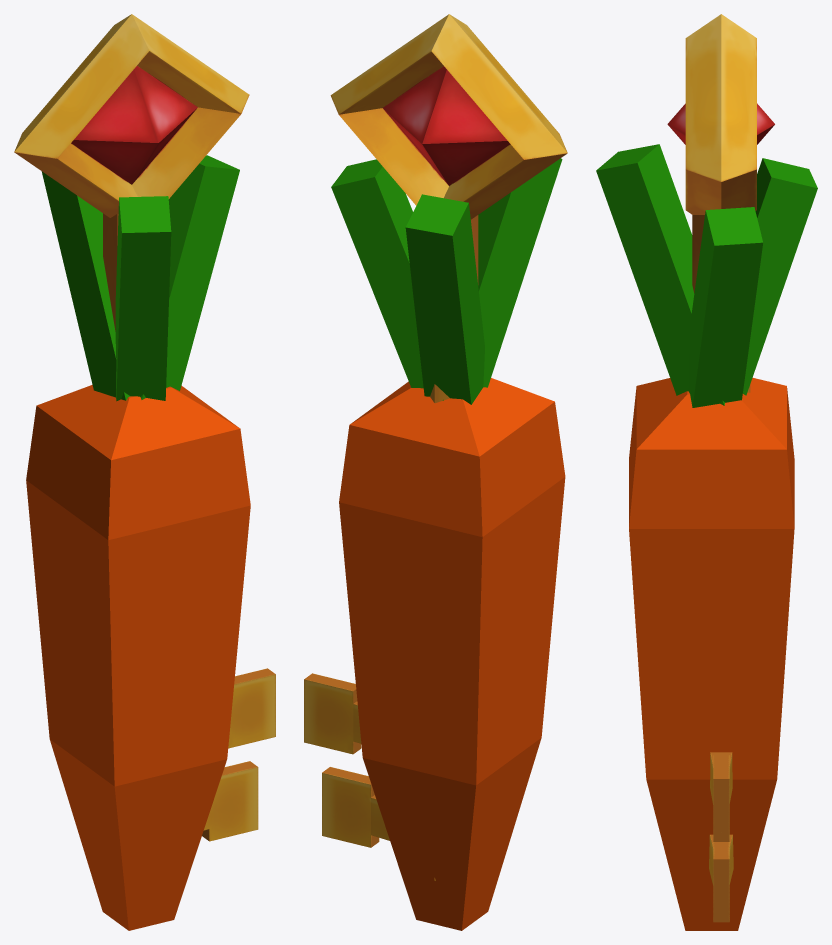
Rendered from carotte_key.glb.
The picture shows the model from 3 angles, left to right: view 1: azimuth 30°, elevation 25°; view 2: azimuth 150°, elevation 25°; view 3: azimuth 270°, elevation 25°; orthographic projection.
Parts seen in each view (by area): view 1: Carrote, Golden key, Tige_Carrote.001, Tige_Carrote.002, Tige_Carrote; view 2: Carrote, Golden key, Tige_Carrote, Tige_Carrote.002, Tige_Carrote.001; view 3: Carrote, Golden key, Tige_Carrote.001, Tige_Carrote.002, Tige_Carrote.
Boxes of the visible parts, x1,y1,x2,y2 form: Carrote: (26, 385, 250, 930); Golden key: (14, 14, 275, 841); Tige_Carrote.001: (115, 196, 171, 401); Tige_Carrote.002: (140, 155, 239, 399); Tige_Carrote: (41, 171, 130, 400); Carrote: (339, 378, 565, 930); Golden key: (304, 14, 567, 880); Tige_Carrote: (405, 194, 484, 404); Tige_Carrote.002: (331, 159, 423, 388); Tige_Carrote.001: (443, 158, 562, 400); Carrote: (629, 378, 794, 930); Golden key: (667, 14, 774, 922); Tige_Carrote.001: (596, 144, 724, 405); Tige_Carrote.002: (688, 207, 763, 407); Tige_Carrote: (743, 158, 817, 395).
Bounding box in the file's own units: 2.48 × 8.27 × 1.84.
Materials: 4 (1 with a texture image).
